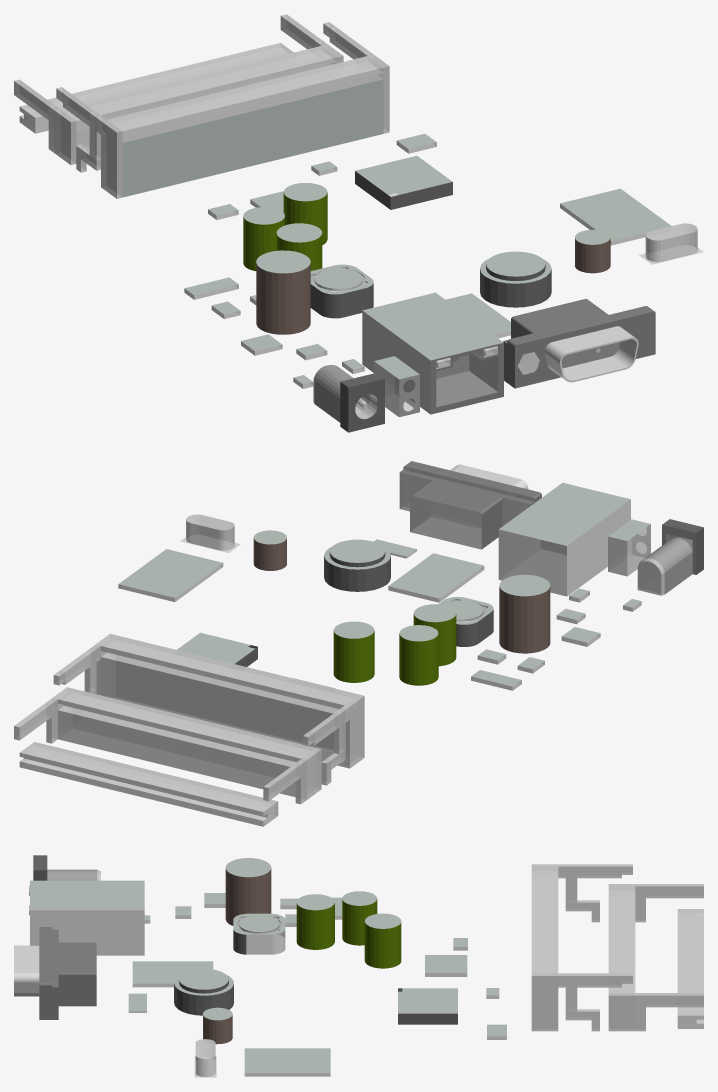
The model's file is mikrotik.glb.
3 renders of one model, top to bottom at view 1: azimuth 30°, elevation 25°; view 2: azimuth 150°, elevation 25°; view 3: azimuth 270°, elevation 25°, orthographic. The views are drawn at different scales.
Parts seen in each view (by area): view 1: Node1672, Node1742, Node1743, Node1744, Node1510, Node1514, Node1519, Node1177, Node907, Node1687, Node1182, Node1631 (+36 smaller); view 2: Node1512, Node1515, Node1672, Node1517, Node1510, Node1514, Node1519, Node1743, Node1742, Node1685, Node1087, Node1177 (+45 smaller); view 3: Node1677, Node1672, Node1510, Node1514, Node1519, Node1177, Node1649, Node1585, Node1182, Node1668, Node1172, Node1631 (+36 smaller).
Boxes of the visible parts, x1,y1,x2,y2 form: Node1672: [362, 292, 503, 360]; Node1742: [122, 116, 383, 197]; Node1743: [122, 97, 383, 179]; Node1744: [122, 79, 383, 160]; Node1510: [107, 56, 382, 131]; Node1514: [61, 45, 336, 120]; Node1519: [20, 43, 293, 117]; Node1177: [560, 188, 671, 240]; Node907: [515, 311, 655, 388]; Node1687: [362, 311, 430, 414]; Node1182: [355, 155, 452, 194]; Node1631: [74, 56, 335, 124]; Node1512: [101, 657, 344, 767]; Node1515: [58, 710, 295, 797]; Node1672: [499, 482, 630, 545]; Node1517: [73, 708, 294, 776]; Node1510: [101, 635, 358, 705]; Node1514: [58, 688, 315, 758]; Node1519: [20, 742, 277, 811]; Node1743: [116, 664, 333, 732]; Node1742: [116, 680, 333, 749]; Node1685: [498, 529, 566, 596]; Node1087: [60, 729, 294, 796]; Node1177: [118, 549, 222, 597]; Node1677: [30, 910, 144, 955]; Node1672: [30, 880, 144, 910]; Node1510: [531, 866, 558, 973]; Node1514: [608, 886, 635, 992]; Node1519: [677, 909, 703, 1015]; Node1177: [244, 1048, 330, 1072]; Node1649: [678, 913, 695, 1018]; Node1585: [531, 976, 558, 1031]; Node1182: [398, 988, 457, 1013]; Node1668: [544, 872, 557, 972]; Node1172: [132, 961, 213, 983]; Node1631: [609, 891, 623, 992].
Bounding box in the file's own units: 41.28 × 5.79 × 65.2.
